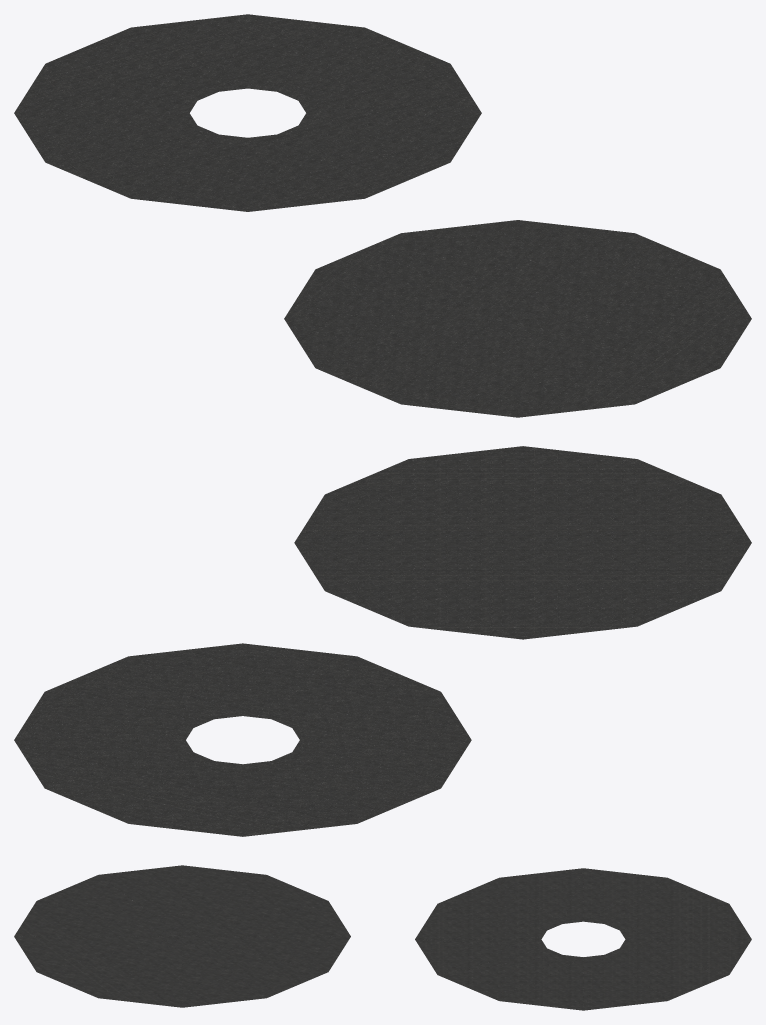
Rendered from main_floor.fbx.
3 renders of one model, top to bottom at view 1: azimuth 30°, elevation 25°; view 2: azimuth 150°, elevation 25°; view 3: azimuth 270°, elevation 25°, orthographic. The views are drawn at different scales.
Parts seen in each view (by area): view 1: floor, floor009; view 2: floor, floor009; view 3: floor, floor009.
Boxes of the visible parts, <box> form: floor: <box>284,220,751,417</box>; floor009: <box>14,14,481,211</box>; floor: <box>294,446,751,639</box>; floor009: <box>14,643,471,836</box>; floor: <box>14,865,350,1007</box>; floor009: <box>415,868,751,1010</box>.
Size of the model in its own units: 20.02 by 4.37e-13 by 42.96.
